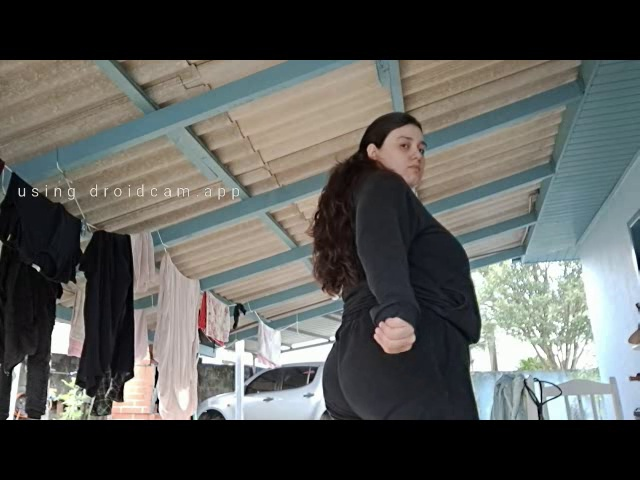MULHER: (352, 101, 457, 215)
SOS: (361, 293, 432, 360)
